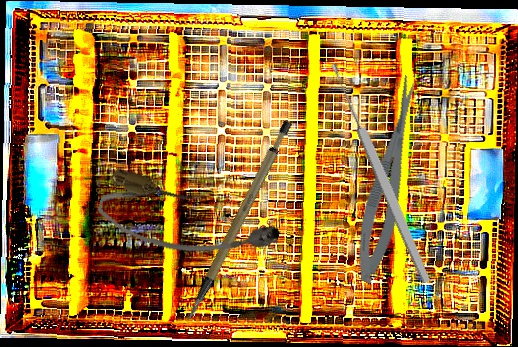Cannula: (92, 164, 285, 280)
Micro Scissor: (346, 73, 432, 286)
Scalpel Handle: (154, 116, 318, 325)
Surgical Spoon: (327, 61, 434, 285)
